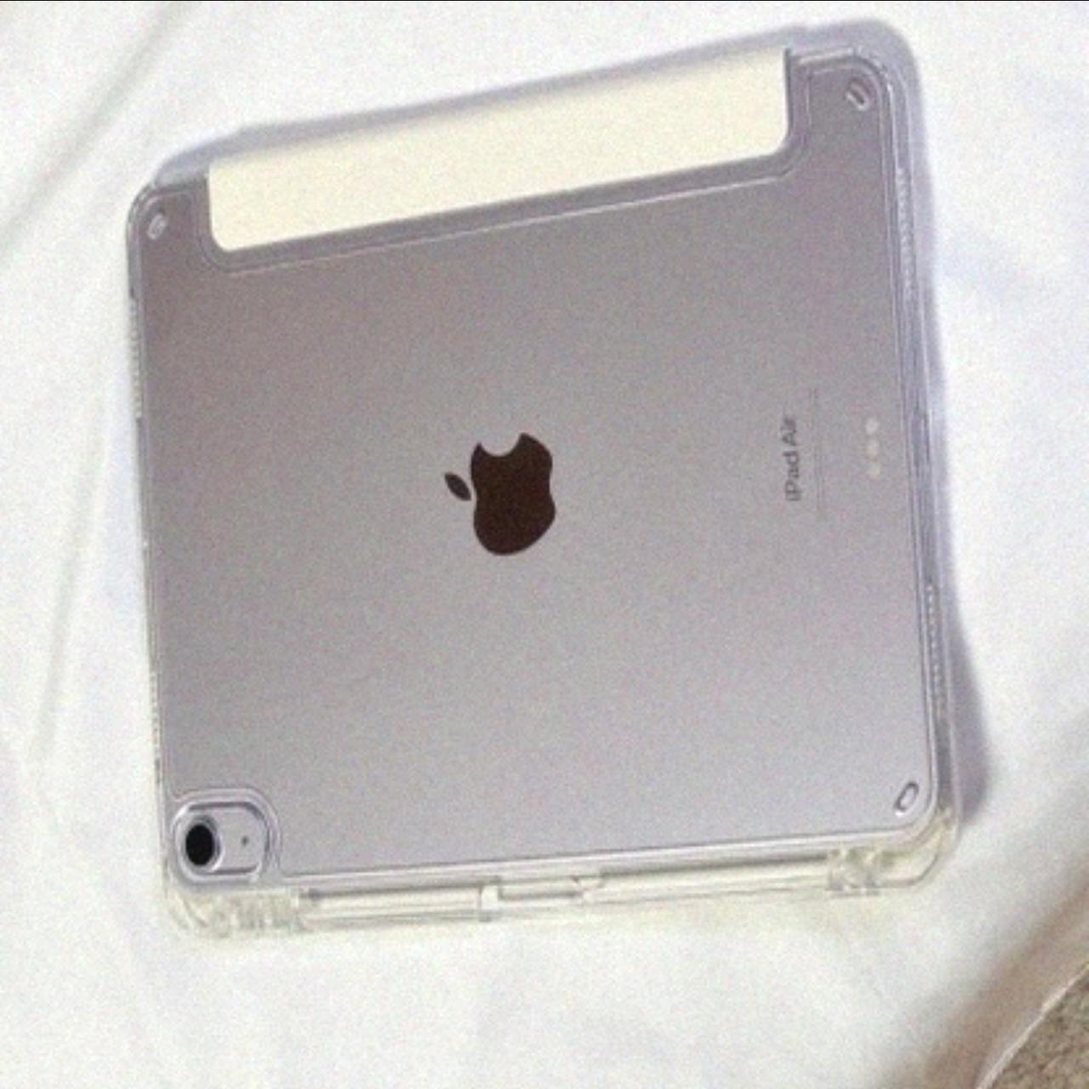Tablet_PC: (123, 13, 995, 960)
